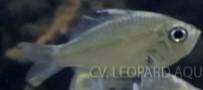Glass Perchlet: (18, 8, 202, 90)
